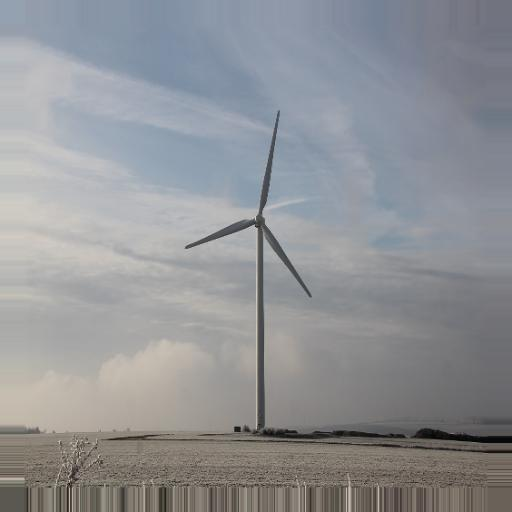wind turbine: (183, 110, 311, 427)
